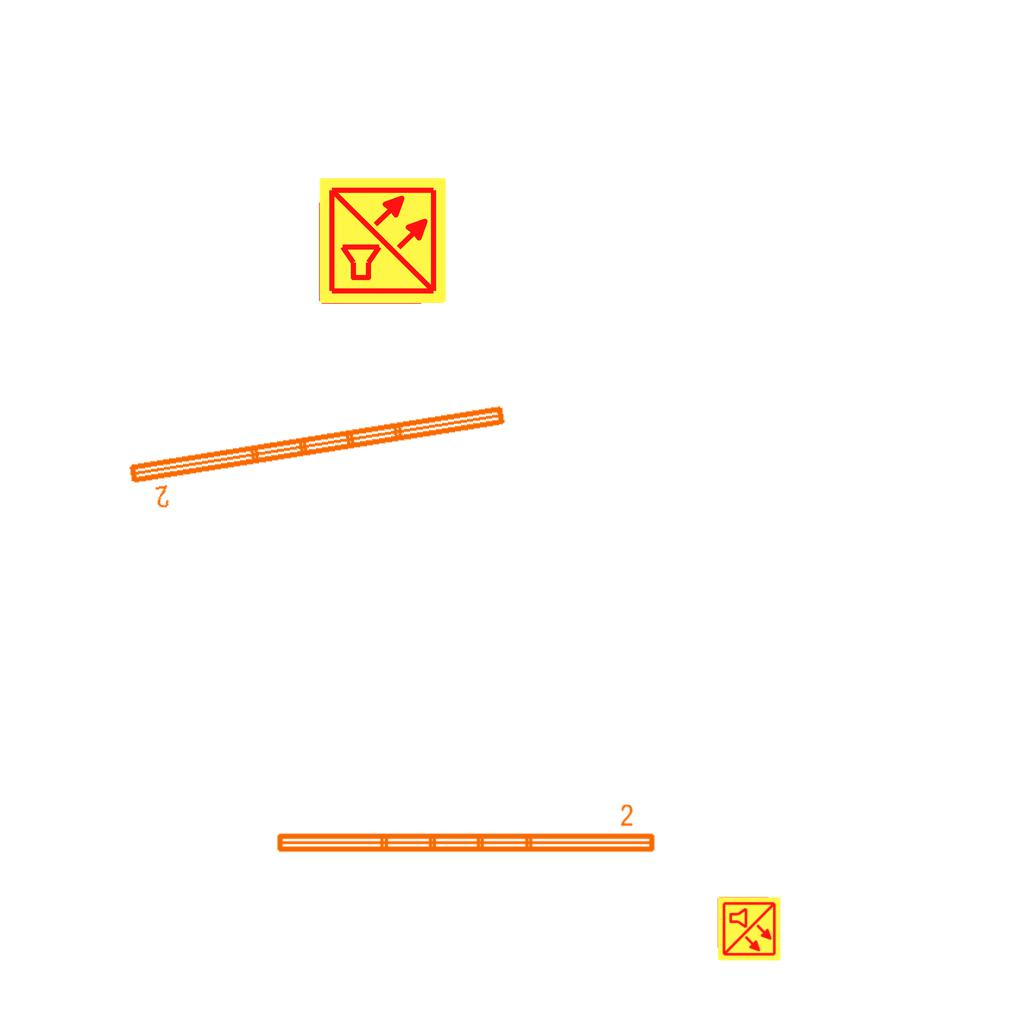Ambulanz_Pendelleuchte_LED: (124, 399, 515, 515), (272, 802, 659, 858)
OKW_Multisensormelder_(Kombination_optischer_Rauch-Kahlenmonoxid_Waerme-Melder): (317, 175, 449, 307), (716, 896, 782, 962)
